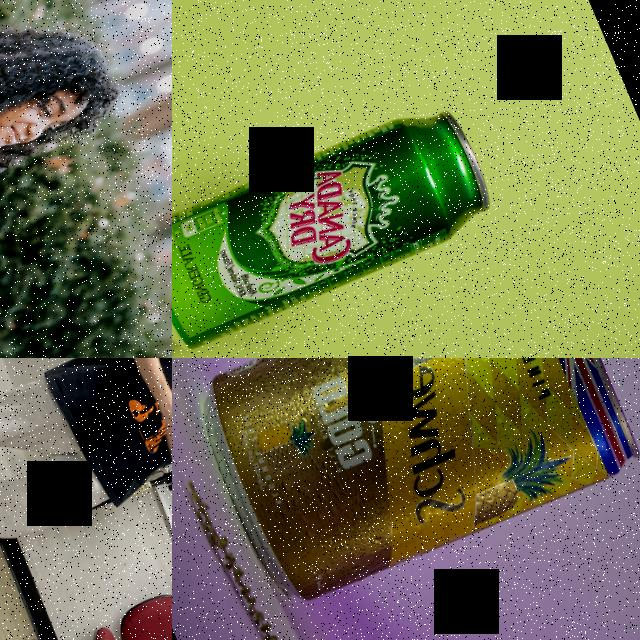can: (181, 358, 640, 619), (172, 89, 507, 358)
